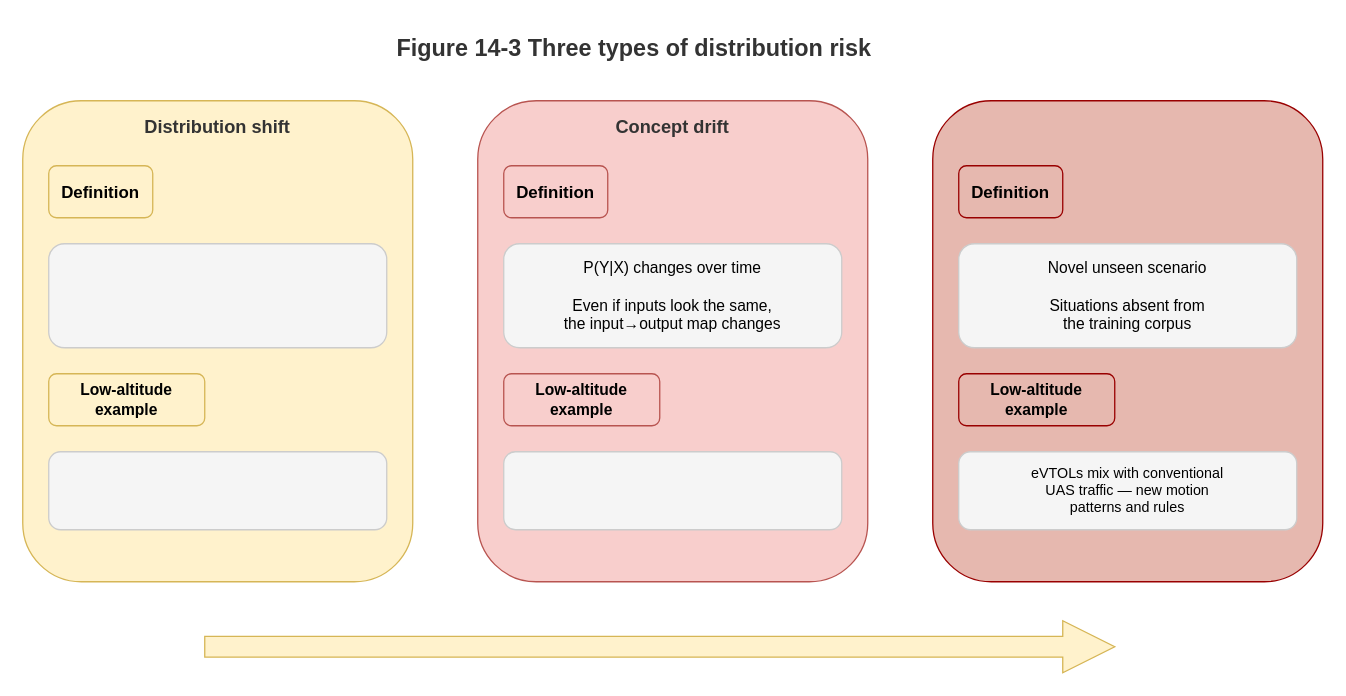
Some shapes in this 1346 by 696 pixel diagram are drawn without their labels. The shapes that lost their labels are listed below. From the top down, each one's box as (x1, y1, x2, y2) in pixels, then its label:
(47, 242, 387, 348): Training distribution P_train(X) ≠ deployment P_deploy(X) P(Y|X) unchanged
(931, 99, 1323, 582): Scenario transfer
(47, 450, 387, 530): Trained on clear weather; deploy in fog/rain (covariate shift)
(502, 450, 842, 530): New rules change minimum separation; same scene, different conflict labels
(203, 619, 1115, 673): Increasing severity →
